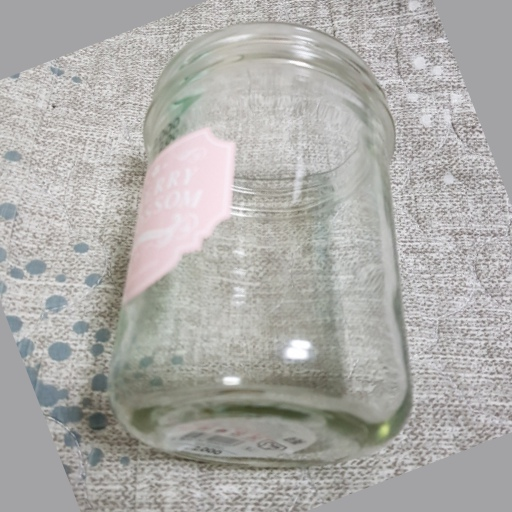Glass_5: (109, 27, 411, 462)
